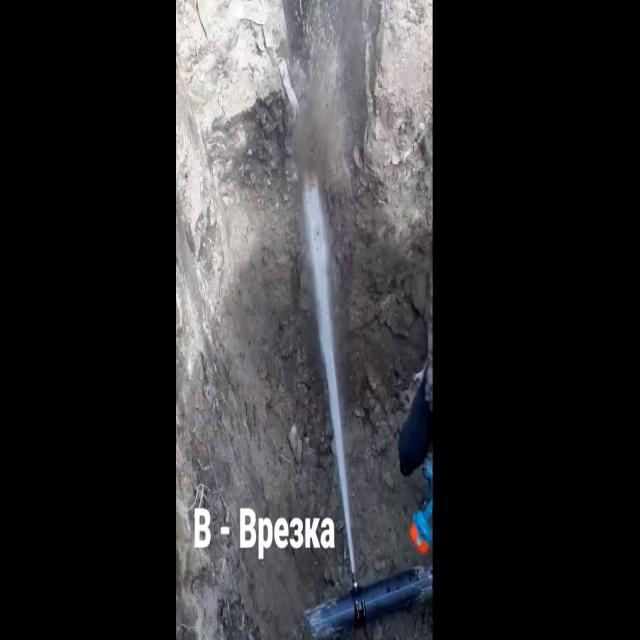leak: (302, 180, 358, 589)
